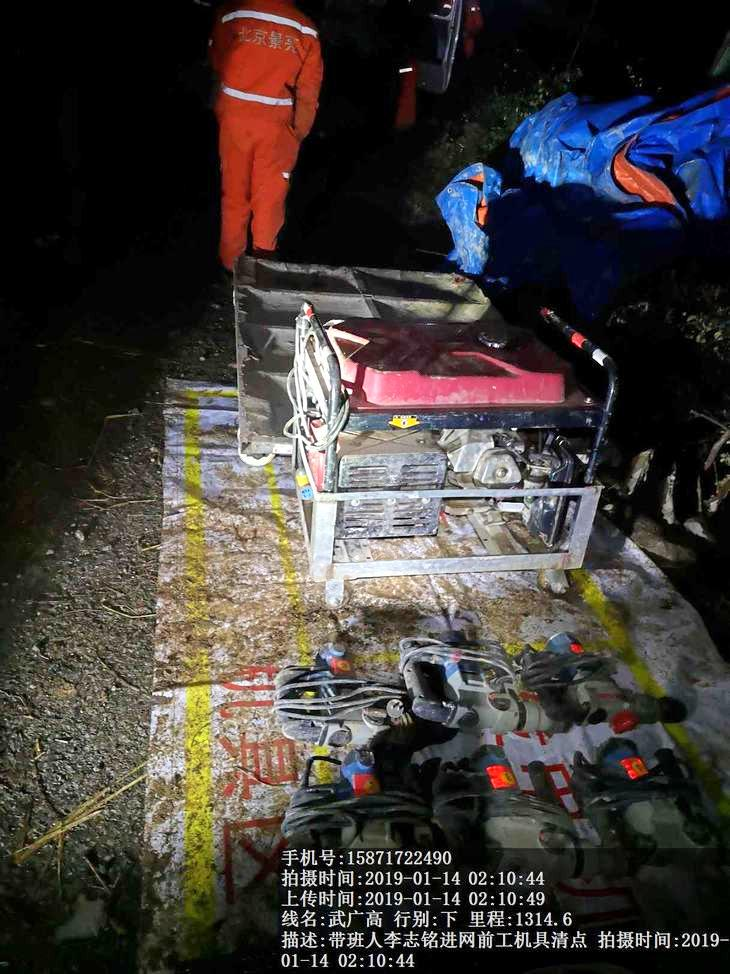DJ: (283, 296, 608, 591)
DZ: (538, 616, 685, 741), (399, 627, 554, 737), (258, 636, 404, 752)
